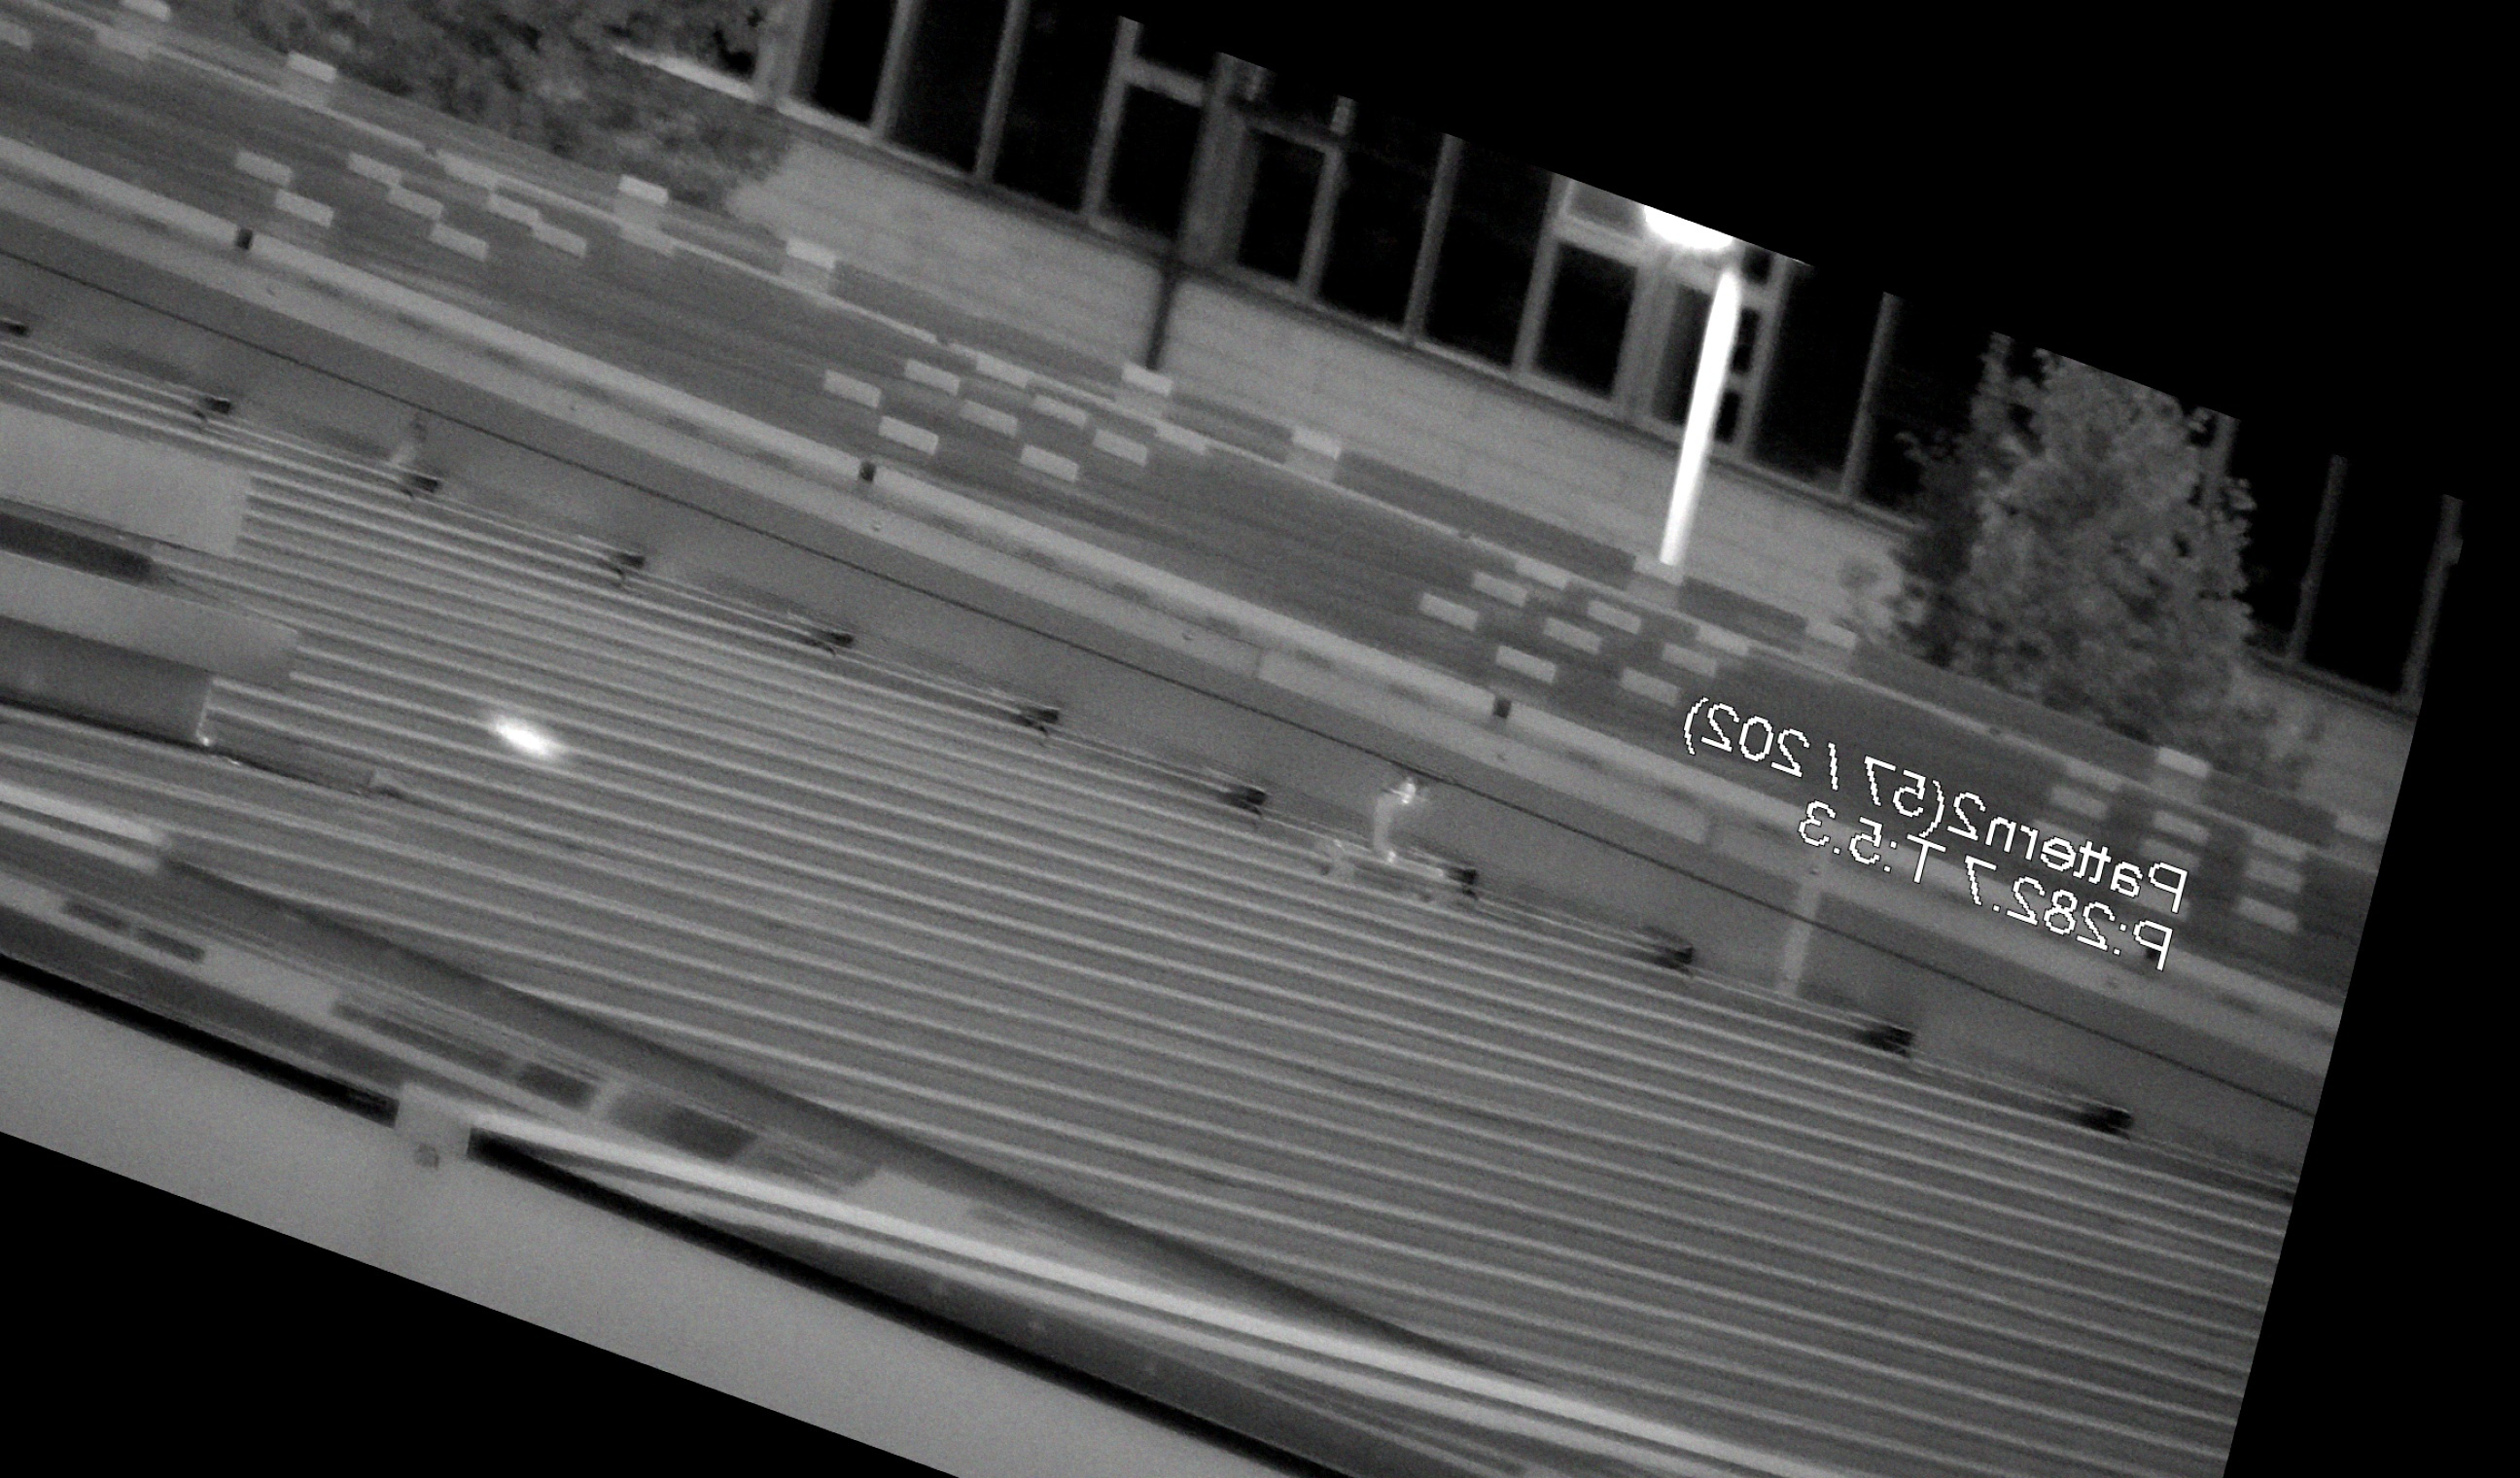Other: (361, 394, 457, 510)
